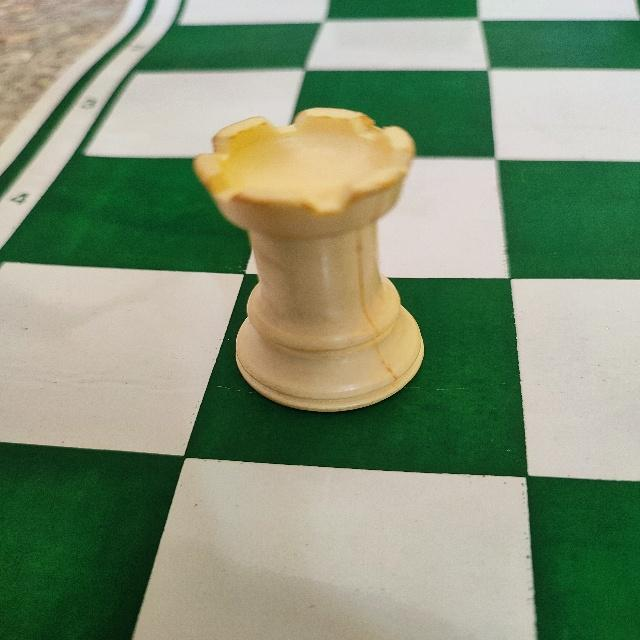Rook: (189, 104, 429, 417)
